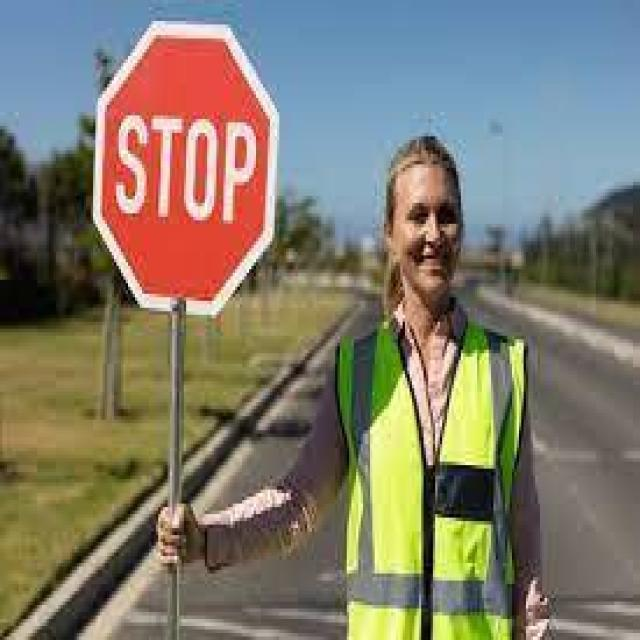safety_helmet: (341, 314, 532, 640)
